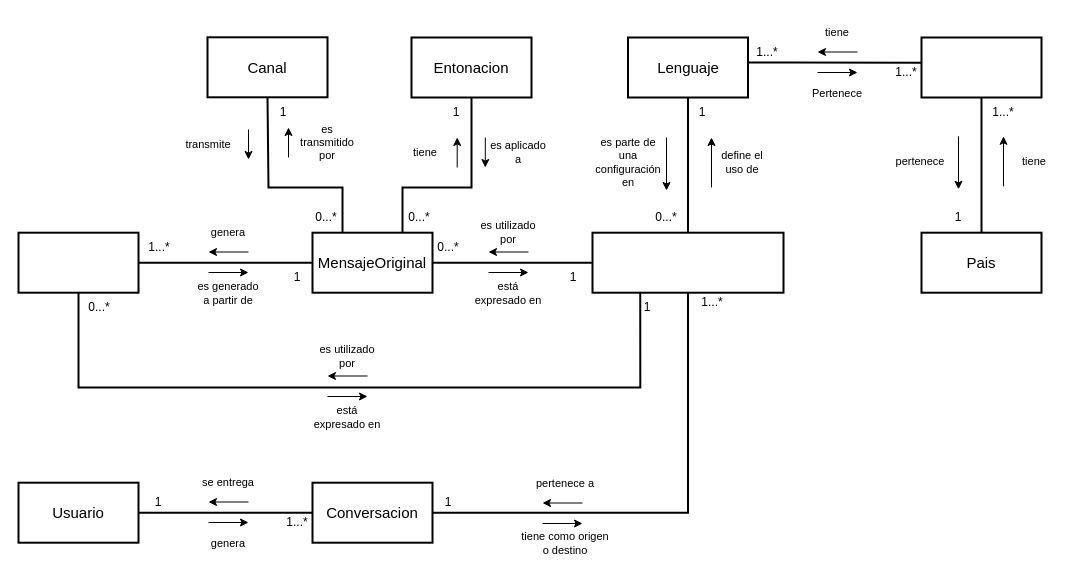
The diagram is 1081 pixels wide and 575 high, and some of its shapes have lost their labels. Each missing label, with the centre of its shape:
"LenguajePorConversacion" goes at pixel 687 262.
"MensajeDestino" goes at pixel 78 262.
"Region" goes at pixel 981 67.
